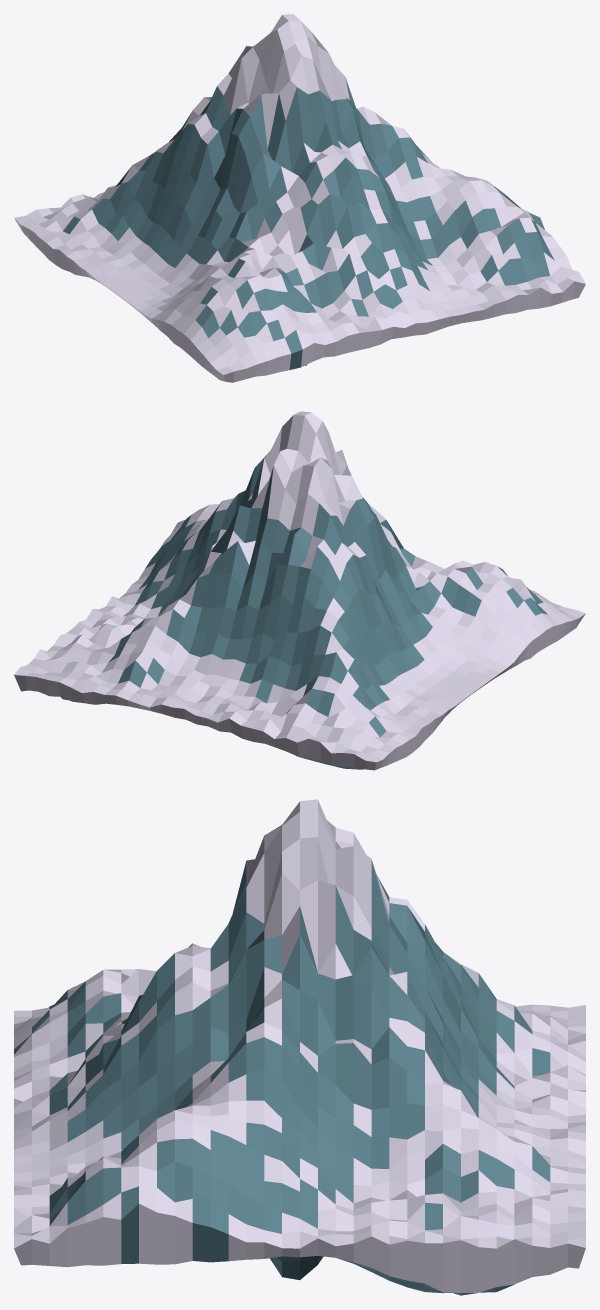
The model's file is mesh_montain.fbx.
3 views of the same model, one above another, from view 1: azimuth 30°, elevation 25°; view 2: azimuth 150°, elevation 25°; view 3: azimuth 270°, elevation 25° (orthographic). The views are drawn at different scales.
Parts seen in each view (by area): view 1: mesh_montain; view 2: mesh_montain; view 3: mesh_montain.
Part boxes in pixels (<box>): mesh_montain: <box>14,14,585,382</box>; mesh_montain: <box>14,411,585,770</box>; mesh_montain: <box>14,799,585,1295</box>.
Bounding box in the file's own units: 500 × 458 × 500.
